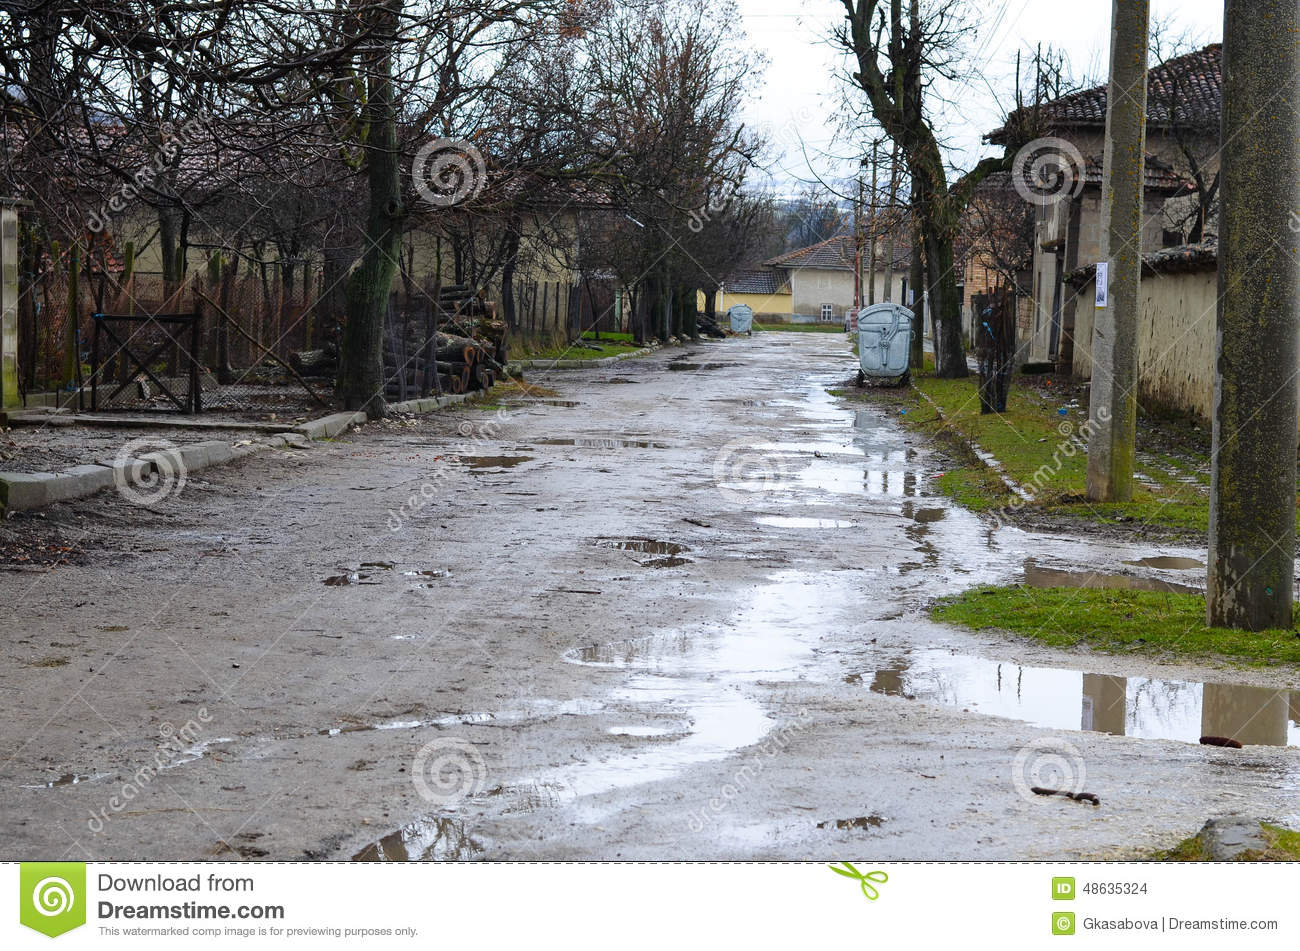water: (581, 576, 850, 817), (878, 631, 1300, 768), (800, 448, 952, 519), (798, 392, 884, 467), (448, 441, 531, 477), (671, 355, 763, 383)
